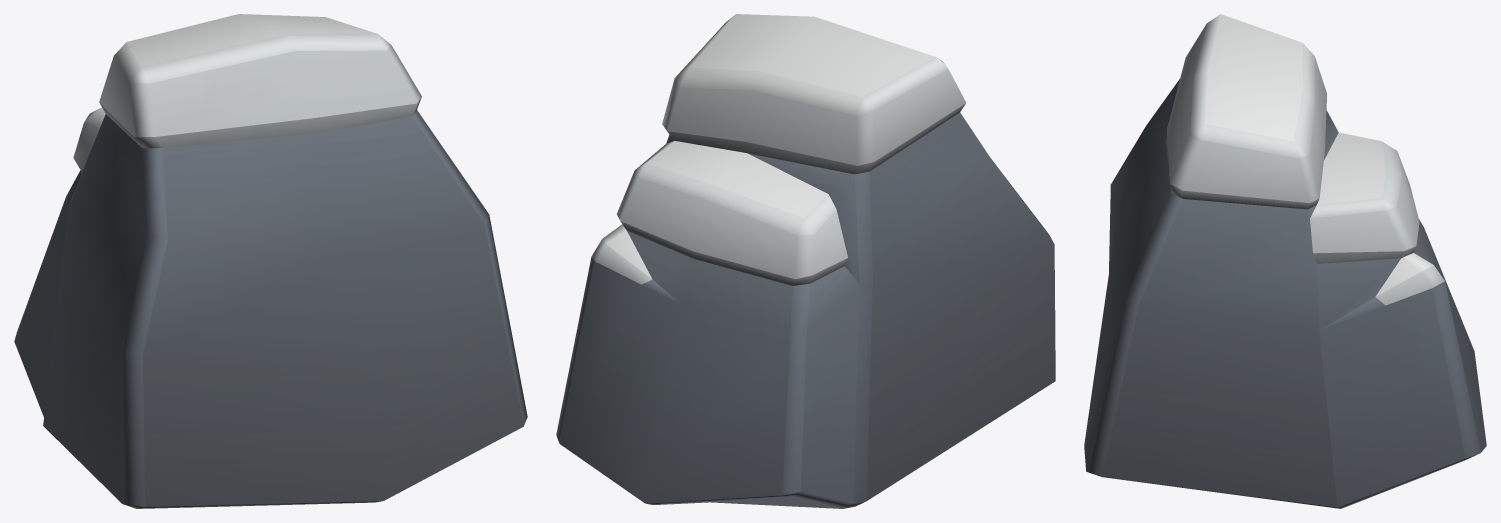
Rendered from rock_snow_019.fbx.
3 views of the same model, side by side, from view 1: azimuth 30°, elevation 25°; view 2: azimuth 150°, elevation 25°; view 3: azimuth 270°, elevation 25° (orthographic). The views are drawn at different scales.
Visible parts, largest first — view 1: rock_snow_019; view 2: rock_snow_019; view 3: rock_snow_019.
Part boxes in pixels (x1,y1,x2,y2): rock_snow_019: [14, 14, 527, 508]; rock_snow_019: [556, 14, 1055, 508]; rock_snow_019: [1084, 14, 1486, 508].
Size of the model in its own units: 243 by 278 by 248.
